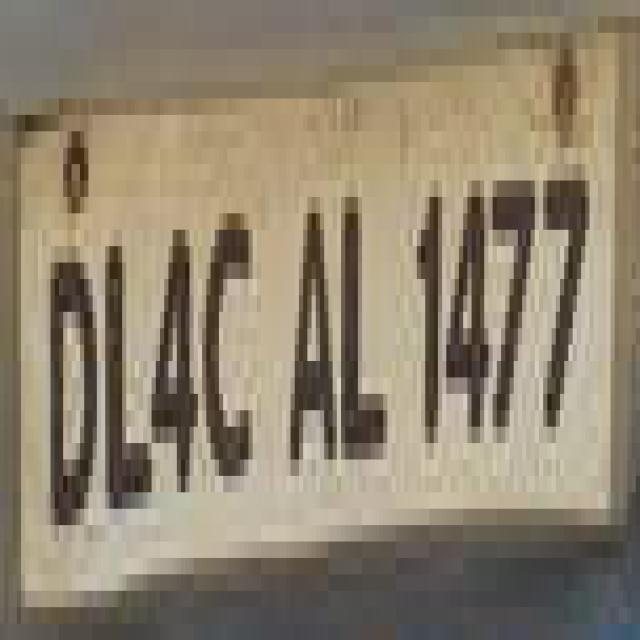license_plate: (0, 16, 606, 590)
